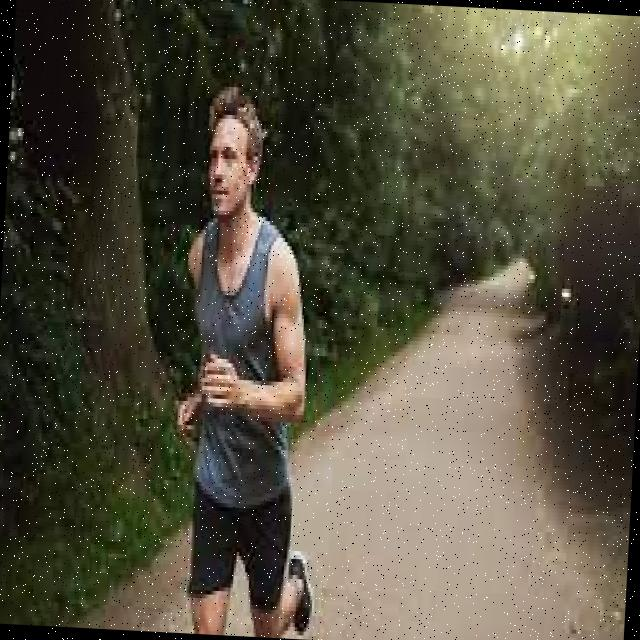Person: (166, 85, 338, 640)
